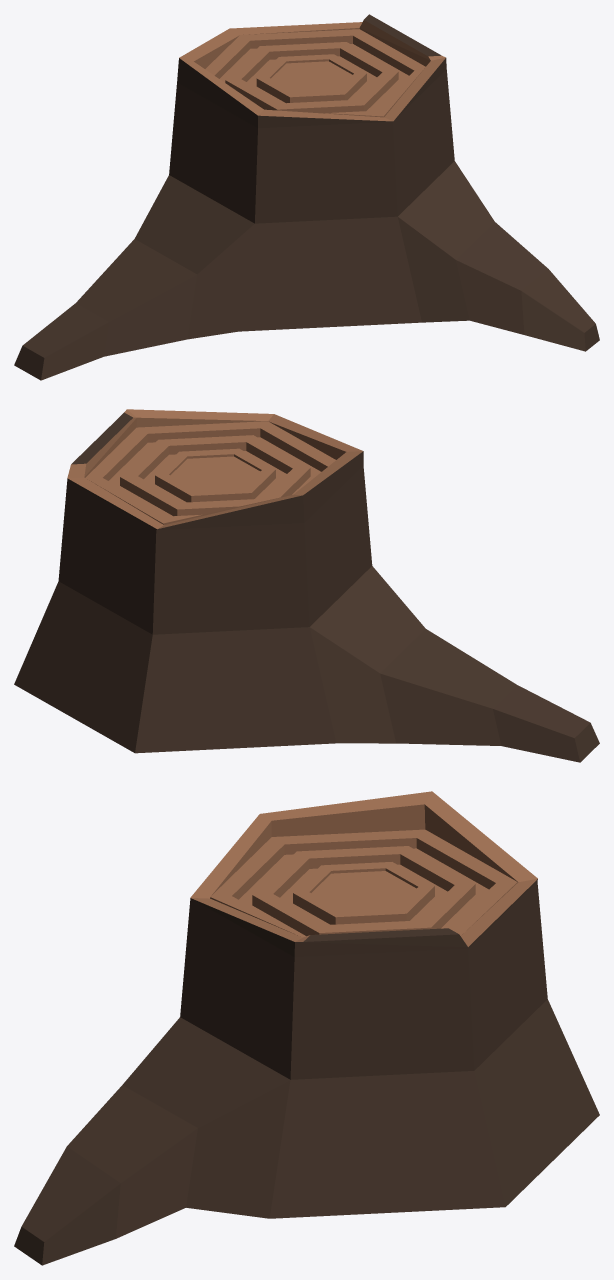
File: Toco.fbx
3 views of the same model, one above another, from view 1: azimuth 30°, elevation 25°; view 2: azimuth 150°, elevation 25°; view 3: azimuth 270°, elevation 25° (orthographic). The views are drawn at different scales.
Parts seen in each view (by area): view 1: Toco.004; view 2: Toco.004; view 3: Toco.004.
Part boxes in pixels (x1,y1,x2,y2): Toco.004: (14, 14, 599, 380); Toco.004: (14, 409, 599, 762); Toco.004: (14, 791, 599, 1265).
Bounding box in the file's own units: 87.59 × 41.51 × 72.25.
